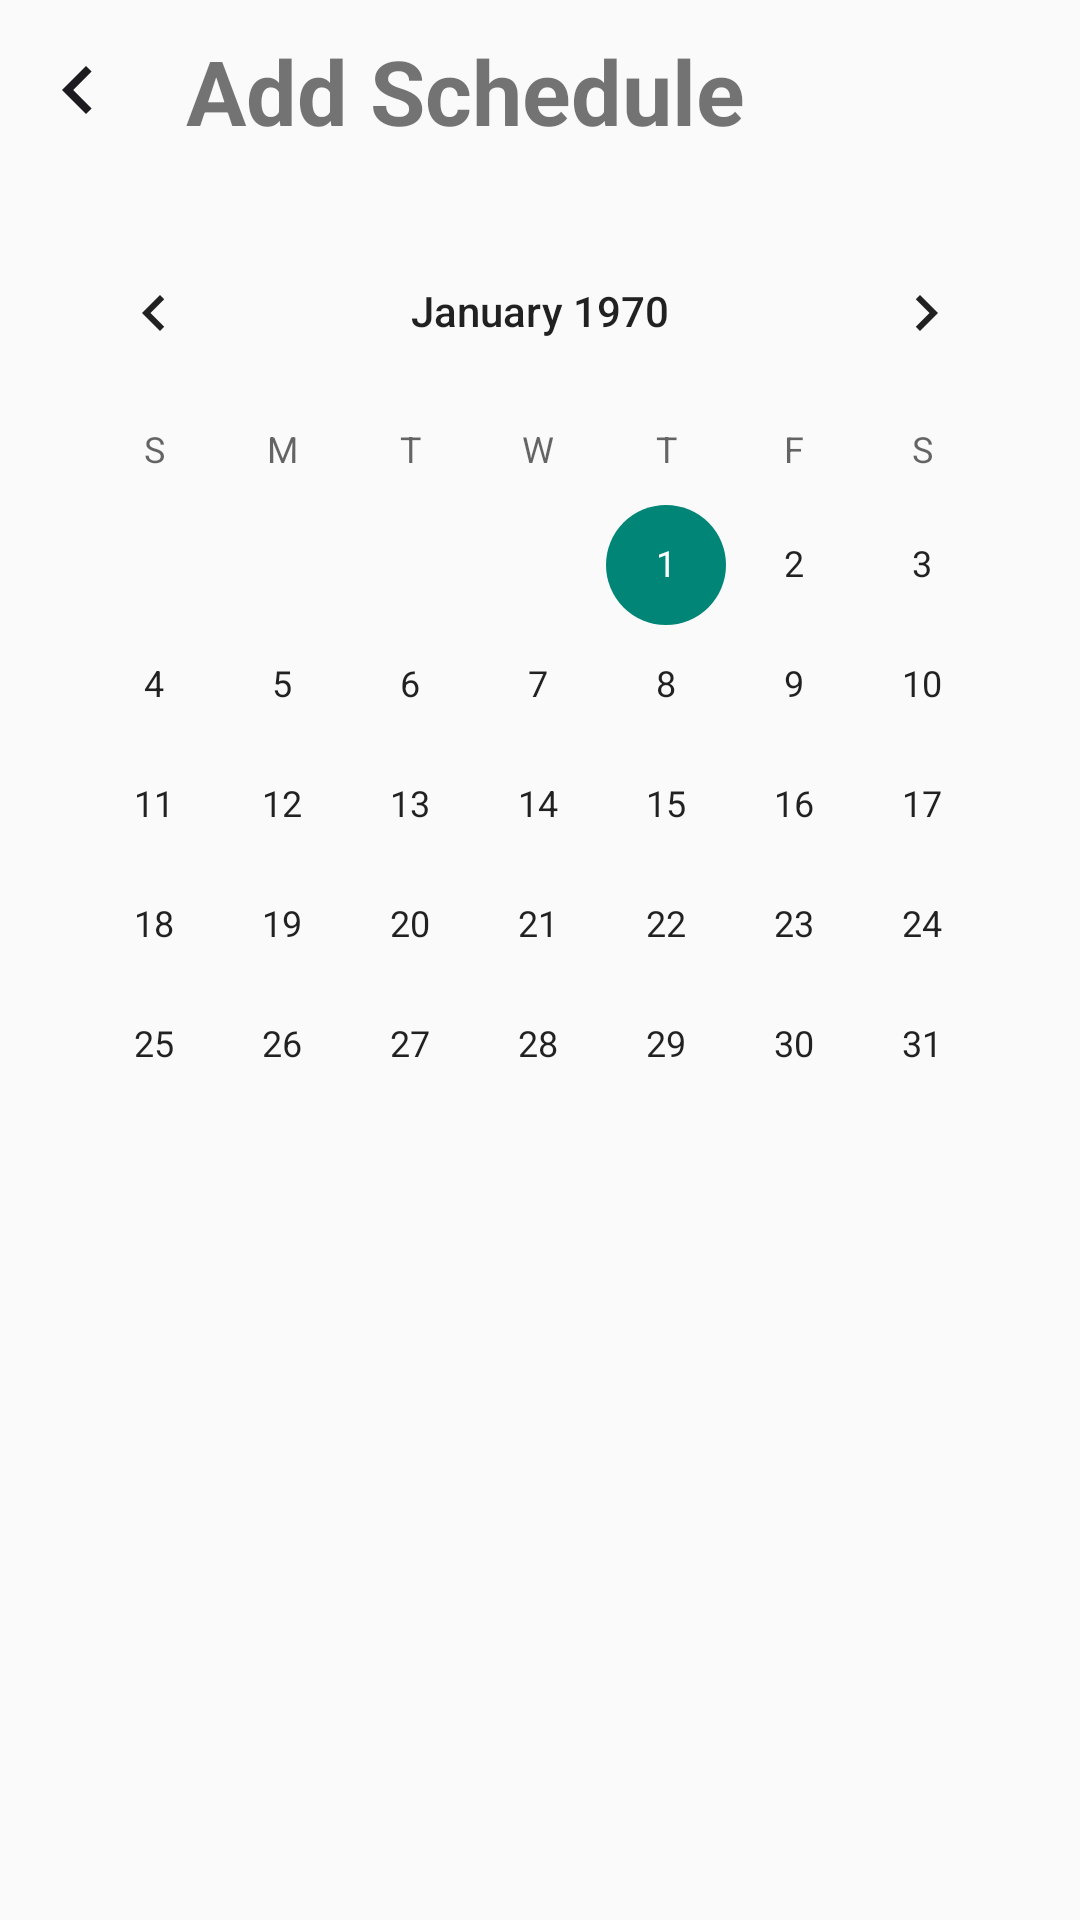

Named icons in this screenshot (1080 × 1920) and their bounding boxes, (x1, y1, x2, y2):
back: (62, 66, 92, 114)
